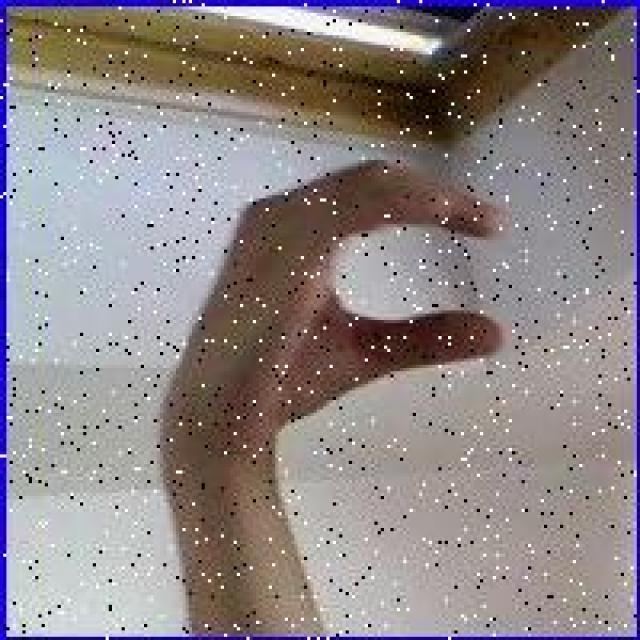C: (170, 157, 506, 464)
